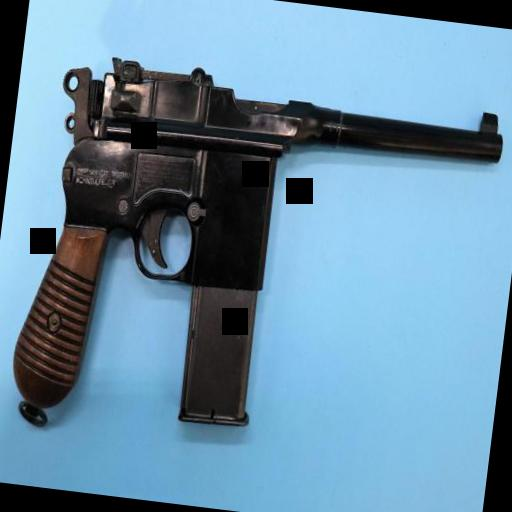Handgun: (5, 46, 508, 478)
